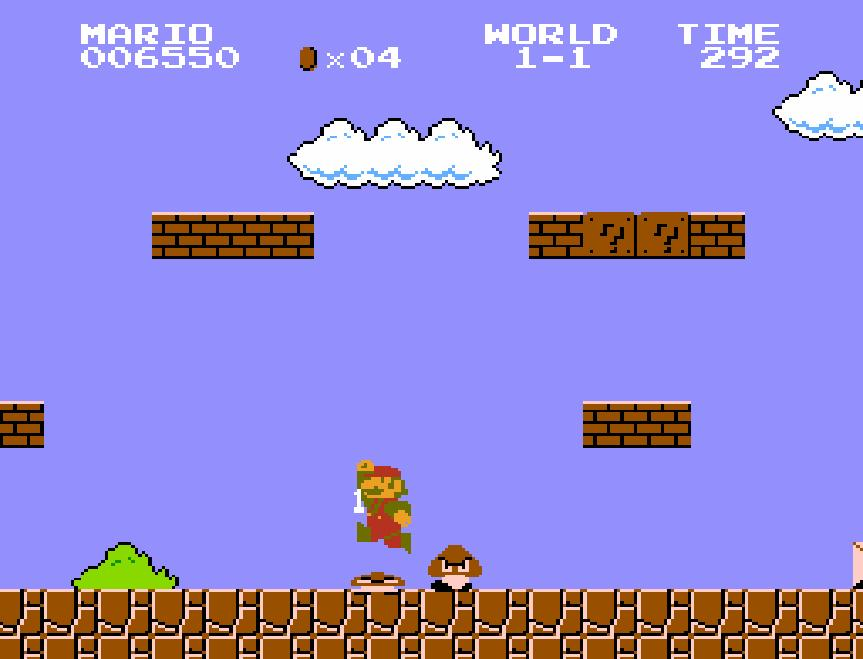big_mario: (355, 458, 413, 556)
